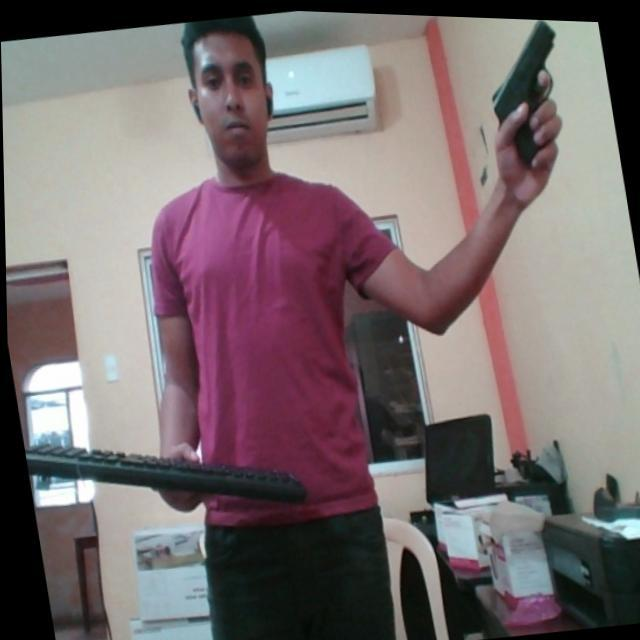weapon: (476, 14, 581, 181)
